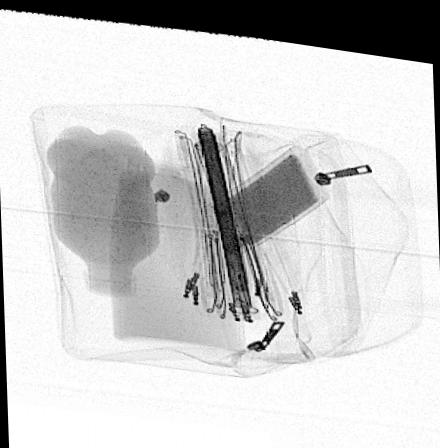Powerbank: (198, 136, 330, 246)
